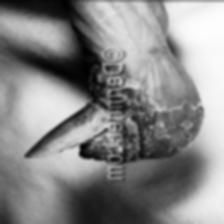Non-Cancerous Skin Condition: (24, 63, 162, 161)
